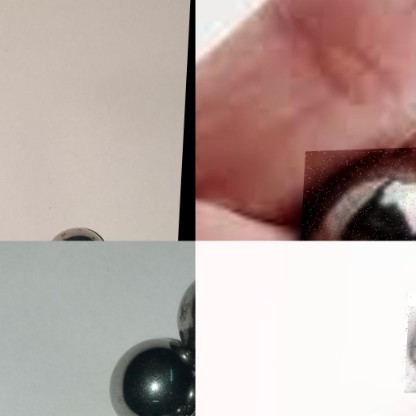ironball: (304, 148, 415, 240), (106, 333, 189, 416), (170, 277, 192, 354), (44, 219, 109, 241)
